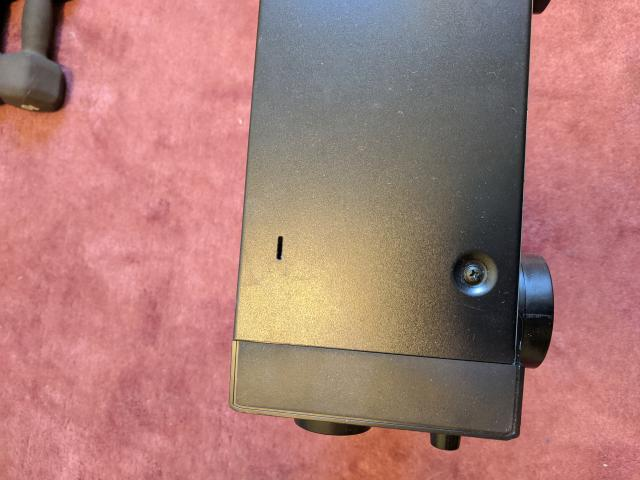CRS: (465, 265, 482, 286)
